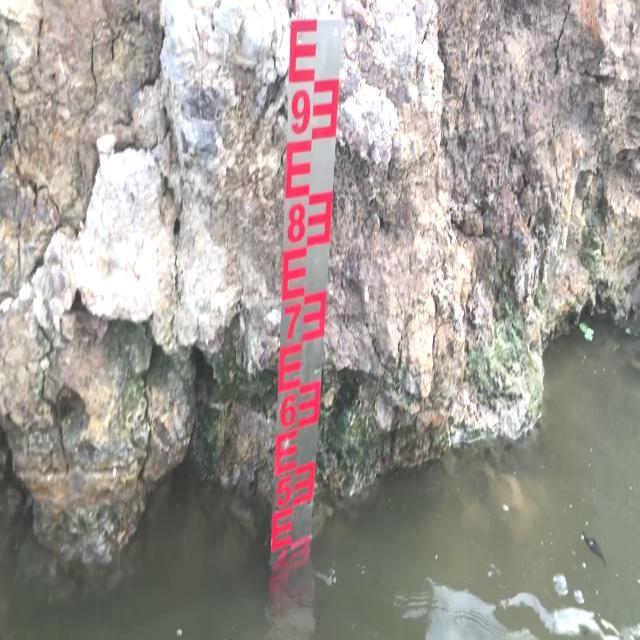ruler: (257, 0, 348, 565)
value: (286, 80, 313, 142), (280, 197, 310, 249), (275, 387, 301, 433), (280, 298, 304, 347), (274, 468, 294, 511)
